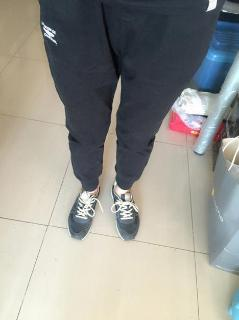trousers: (38, 0, 226, 192)
